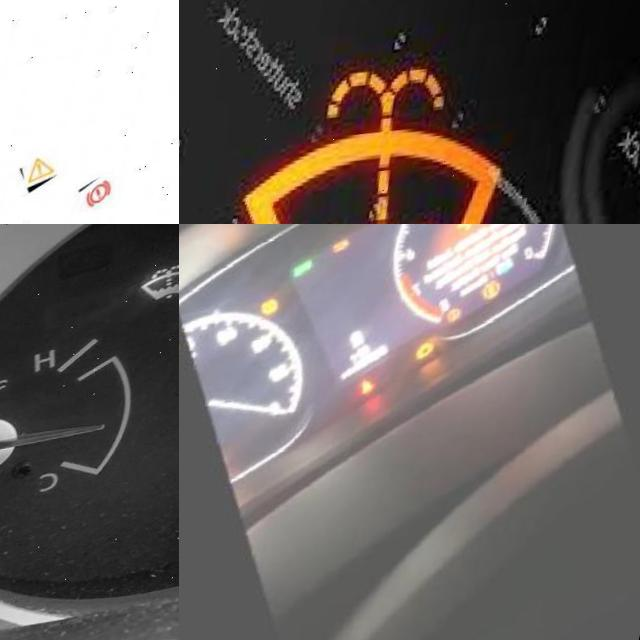Washer Fluid: (219, 59, 533, 224), (144, 267, 179, 317)
